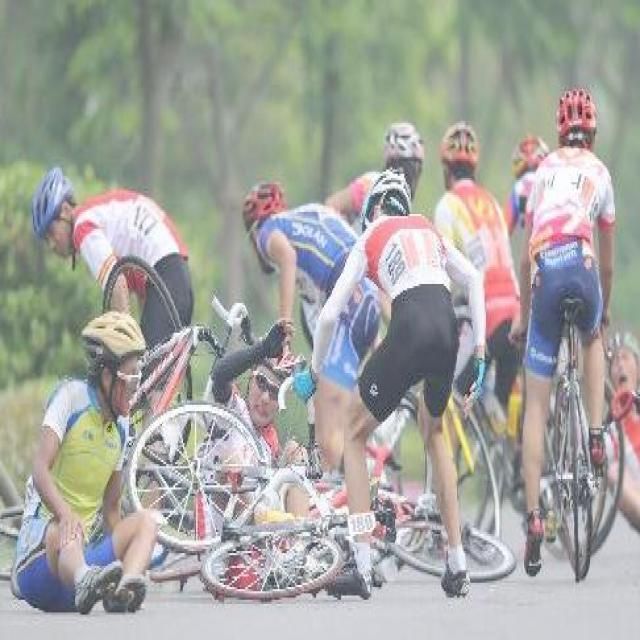fall: (21, 326, 154, 606)
